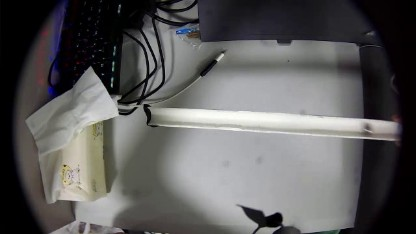gangzhu: (360, 123, 373, 134)
